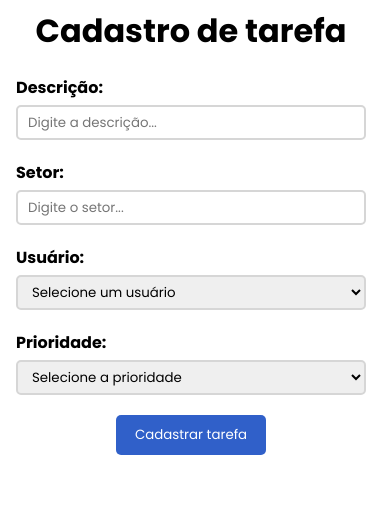
Scenario: CadTarefa - testes completos › Erro se prioridade for inválida
The image size is (383, 524).
Step 1. Type "Teste" into the field labelled "Descrição:" → (191, 122), box x1=16 y1=105 x2=366 y2=140
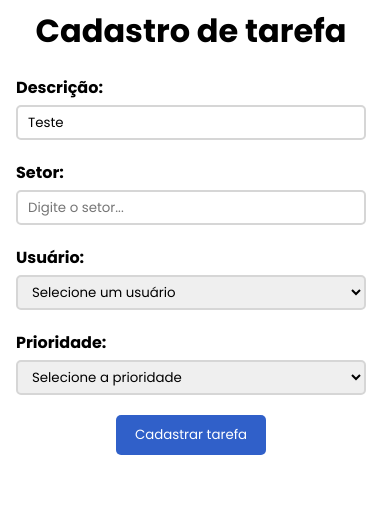
Step 2. Type "TI" into the field labelled "Setor:" → (191, 208), box x1=16 y1=190 x2=366 y2=225
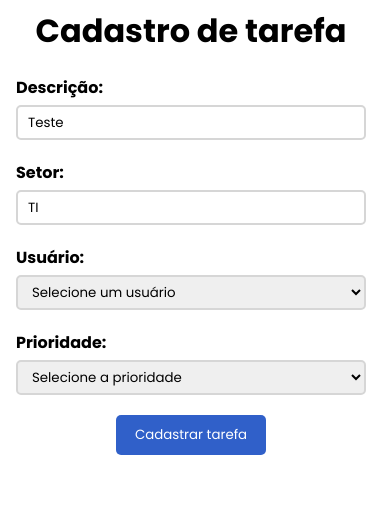
Step 3. Select "João" in the dropdown labelled "Usuário:" → (191, 292), box x1=16 y1=275 x2=366 y2=310
Step 4. Select "Urgente" in the dropdown labelled "Prioridade:" → (191, 378), box x1=16 y1=360 x2=366 y2=395
Step 5. Click the button "Cadastrar tarefa" → (191, 435), box x1=116 y1=415 x2=266 y2=455
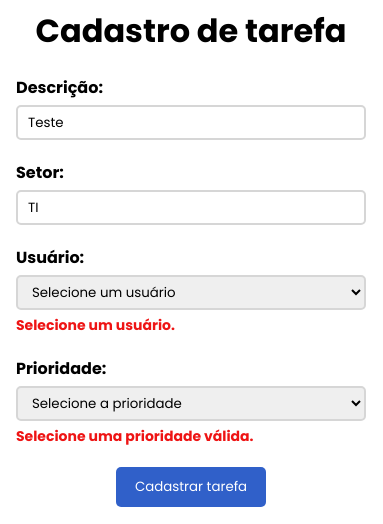
Expected: the text "Selecione uma prioridade válida." is shown, x1=16 y1=426 x2=254 y2=446
